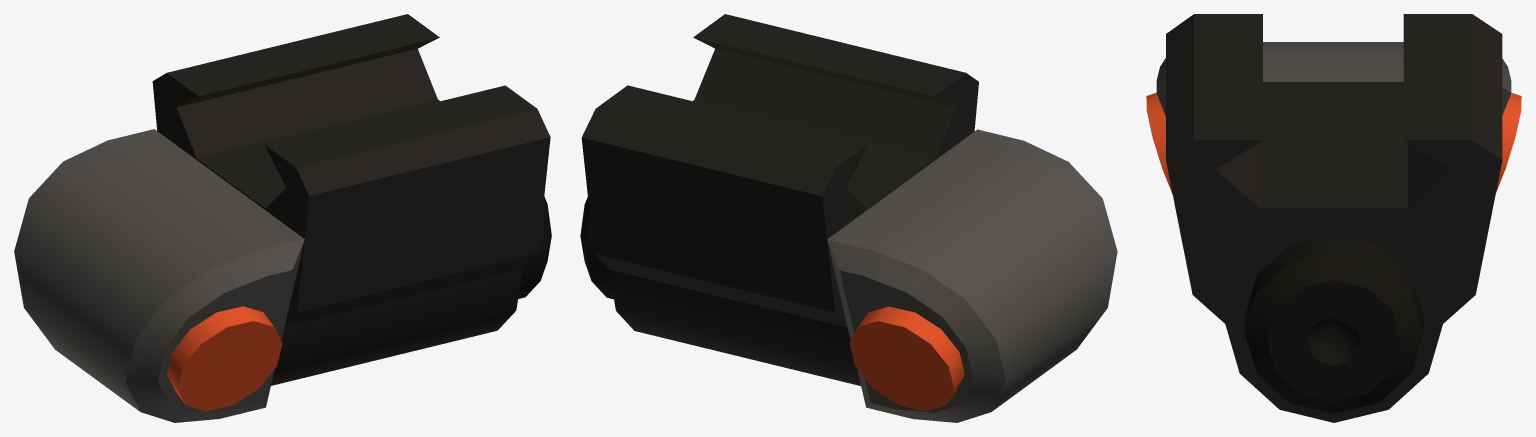
The model's file is Tactical_LaserAiming_02.fbx.
3 views of the same model, side by side, from view 1: azimuth 30°, elevation 25°; view 2: azimuth 150°, elevation 25°; view 3: azimuth 270°, elevation 25° (orthographic). The views are drawn at different scales.
Visible parts, largest first — view 1: Tactical_LaserAiming_02; view 2: Tactical_LaserAiming_02; view 3: Tactical_LaserAiming_02.
Boxes of the visible parts, left/top/right/bottom form: Tactical_LaserAiming_02: left=14, top=14, right=551, bottom=422; Tactical_LaserAiming_02: left=580, top=14, right=1117, bottom=422; Tactical_LaserAiming_02: left=1146, top=14, right=1521, bottom=422.
Bounding box in the file's own units: 6.09 × 3.44 × 4.14.
